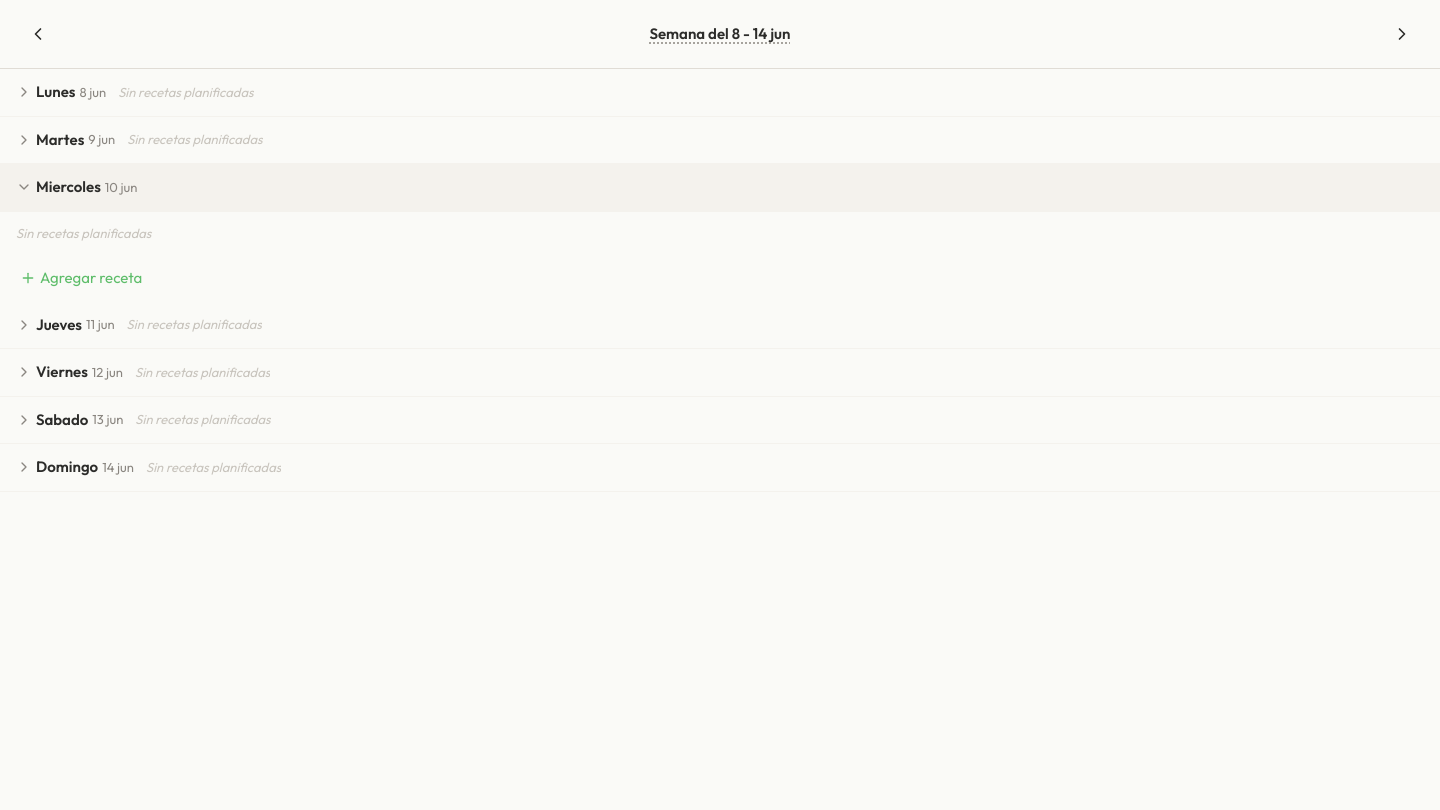
Test: PlannerPage › opens recipe picker sheet when "+ Anadir receta" is tapped
This screenshot has width=1440, height=810.
Click the button "Agregar receta". click: (91, 278)
box: [0,255,1439,302]
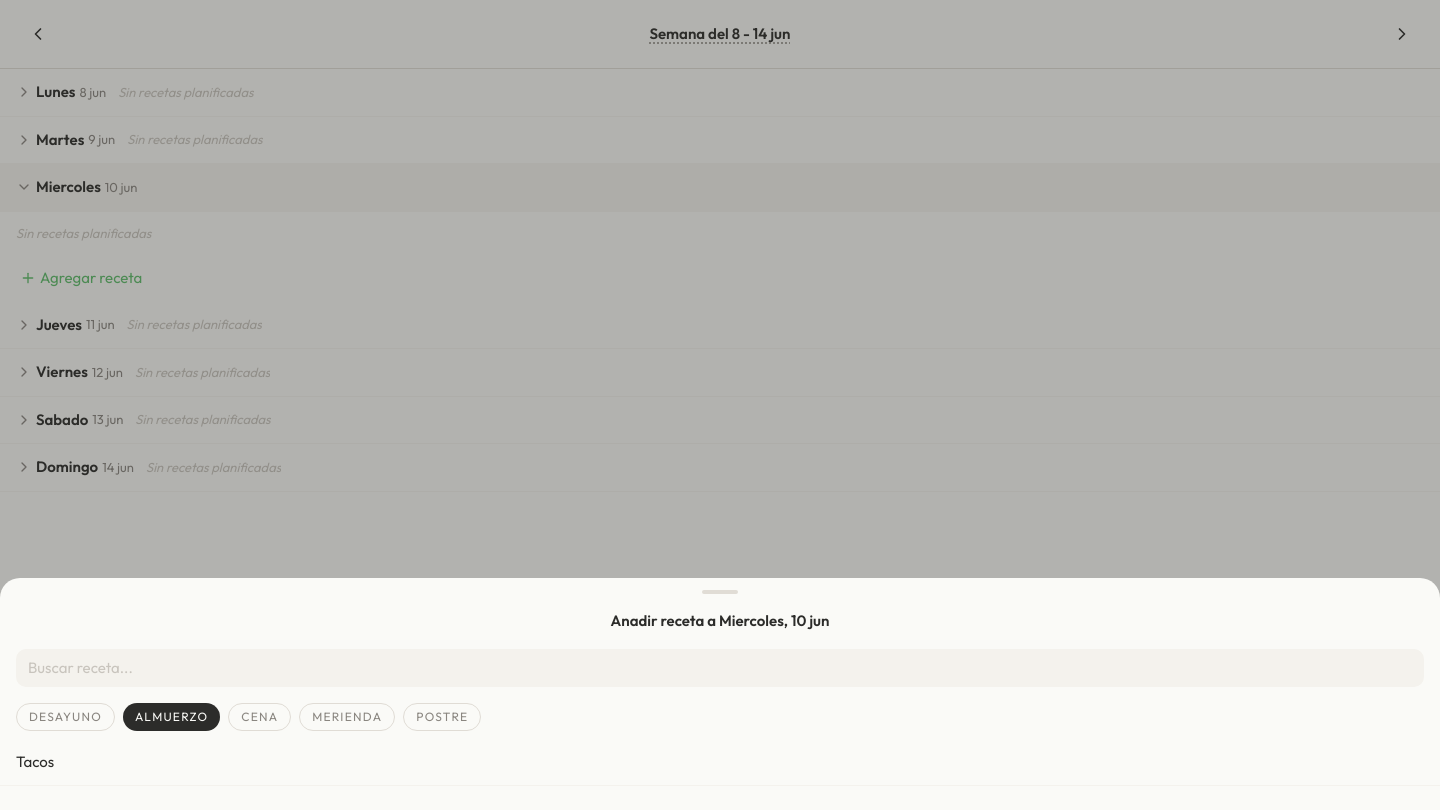
Now the field with placeholder "Buscar receta..." is shown, box [16,648,1424,686]
